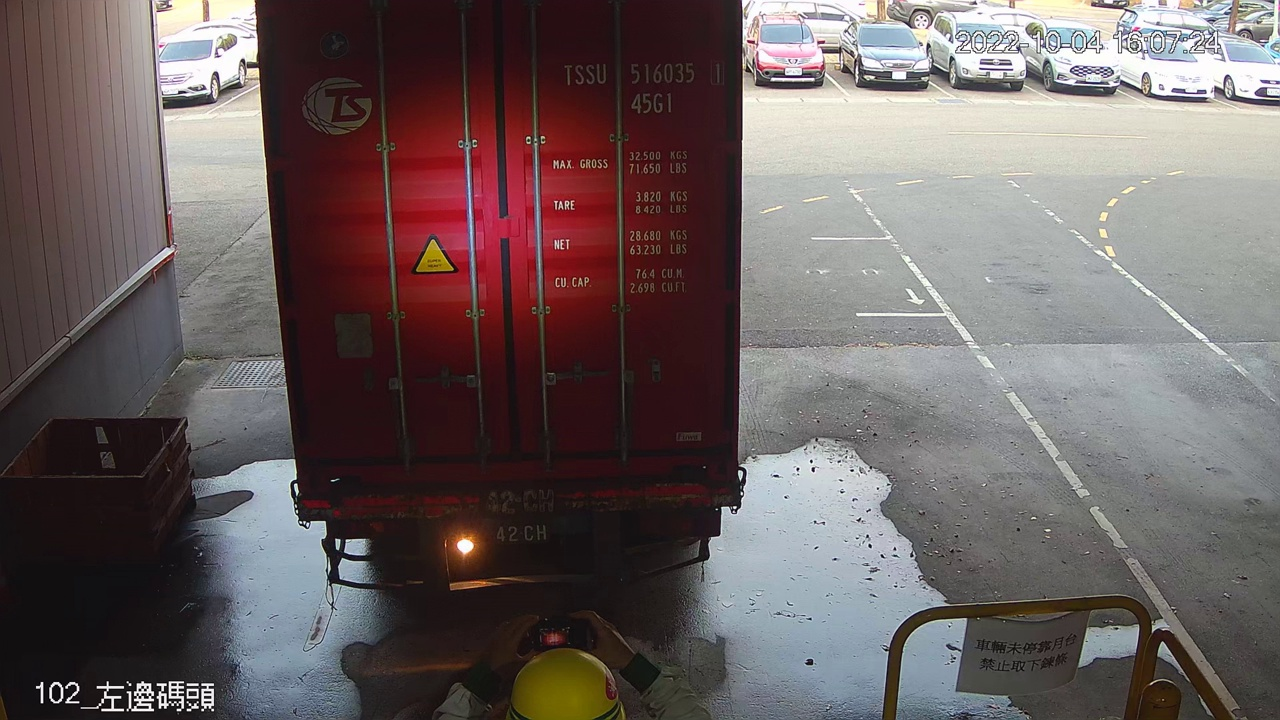container: (551, 53, 732, 119)
